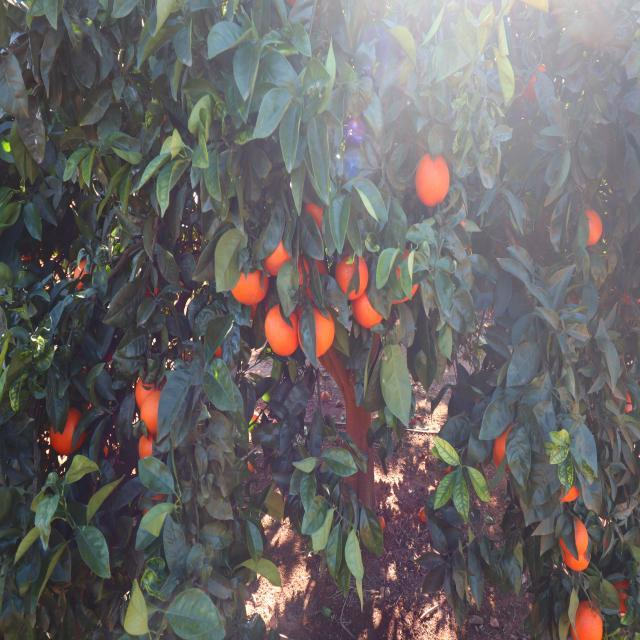Jeruk Sudah Matang: (408, 149, 459, 209), (259, 230, 299, 288), (263, 306, 304, 362), (297, 308, 340, 358), (46, 410, 95, 452), (224, 262, 270, 306), (336, 254, 376, 302), (566, 598, 606, 640), (139, 388, 171, 435), (493, 420, 519, 477), (560, 523, 592, 560), (138, 431, 167, 468), (564, 550, 595, 584), (580, 206, 604, 248), (610, 568, 630, 614), (304, 197, 326, 236), (136, 374, 162, 406)
